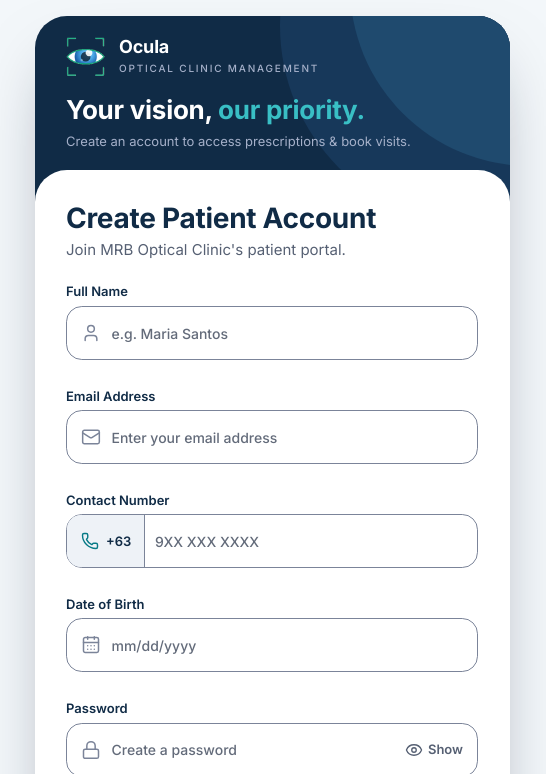
Test: Date of Birth field on the register form › shows the slashes as the person types
Step 1. Type "05211990" into the field labelled "Date of Birth" → (287, 646), box [112,635,463,656]
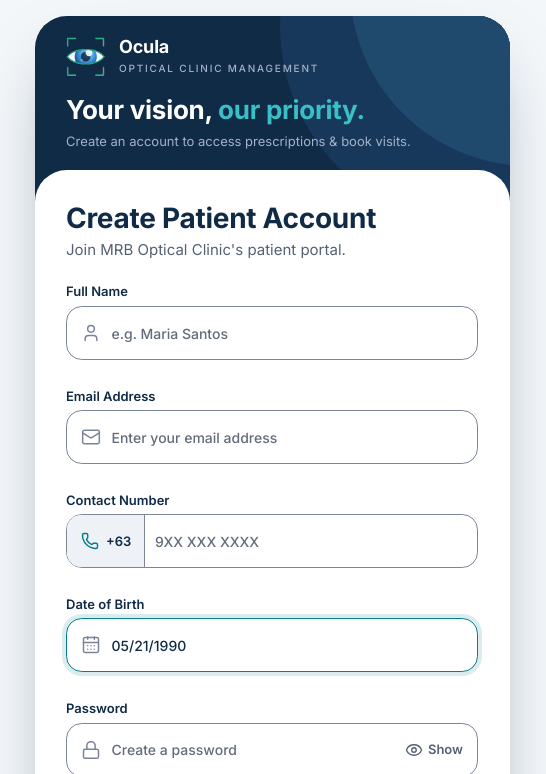
Expected: the field labelled "Date of Birth" holds "05/21/1990", [112,635,463,656]
